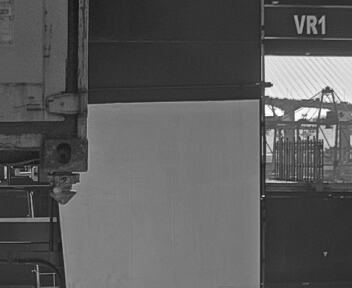twist_lock_2: (46, 169, 85, 211)
